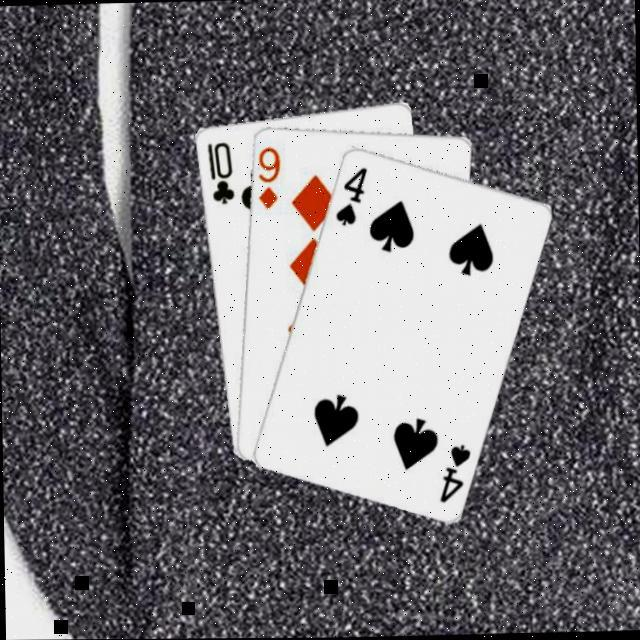10C: (205, 139, 238, 209)
4S: (333, 165, 372, 230), (437, 442, 476, 507)
9D: (256, 144, 285, 213)
